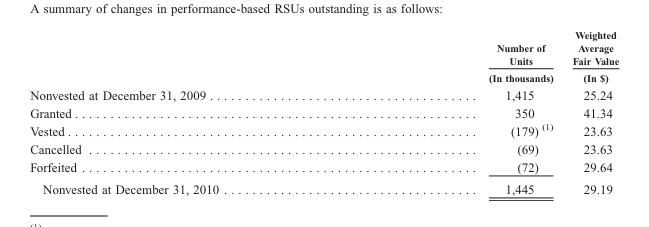table: (29, 29, 618, 196)
table column: (29, 29, 353, 196), (353, 29, 562, 196), (562, 29, 618, 196)
table column header: (29, 29, 618, 85)
table row: (29, 29, 618, 85), (29, 158, 618, 178), (29, 120, 618, 139), (29, 139, 618, 158), (29, 85, 618, 103), (29, 178, 618, 196), (29, 103, 618, 120)
